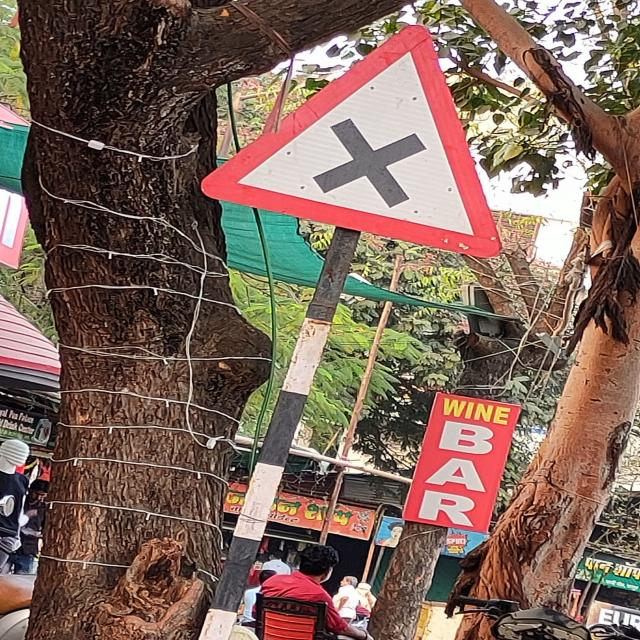cross_road: (200, 25, 500, 262)
